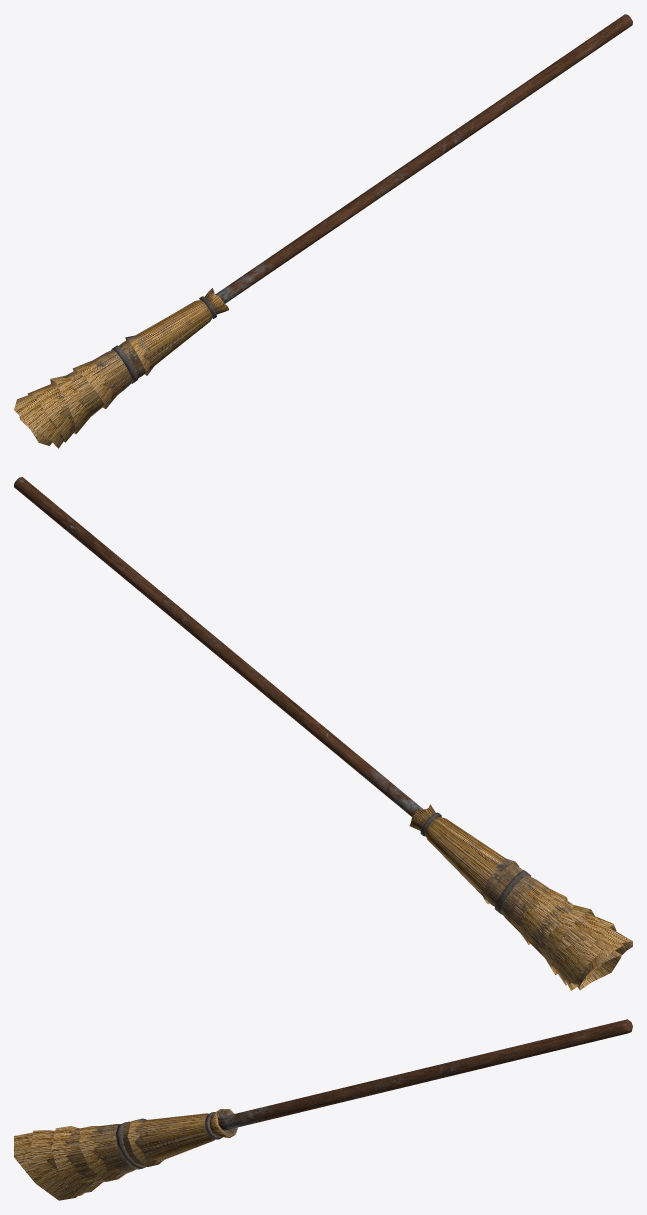
3 views of the same model, one above another, from view 1: azimuth 30°, elevation 25°; view 2: azimuth 150°, elevation 25°; view 3: azimuth 330°, elevation 25° (orthographic). The views are drawn at different scales.
Visible parts, largest first — view 1: Metla; view 2: Metla; view 3: Metla.
Boxes of the visible parts, <box> form: Metla: <box>14,14,632,448</box>; Metla: <box>14,477,632,990</box>; Metla: <box>14,1019,632,1200</box>.
Bounding box in the file's own units: 52.35 × 26.9 × 6.59.
Materials: 1 (1 with a texture image).
